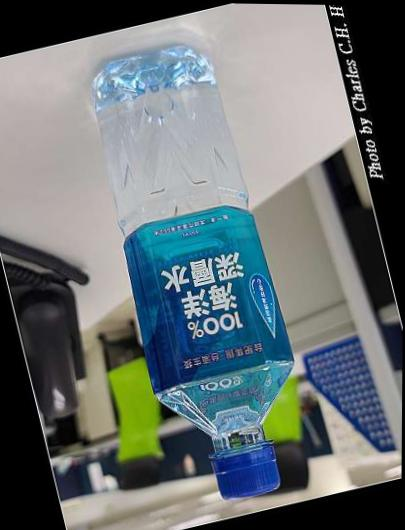plastic: (64, 5, 333, 498)
